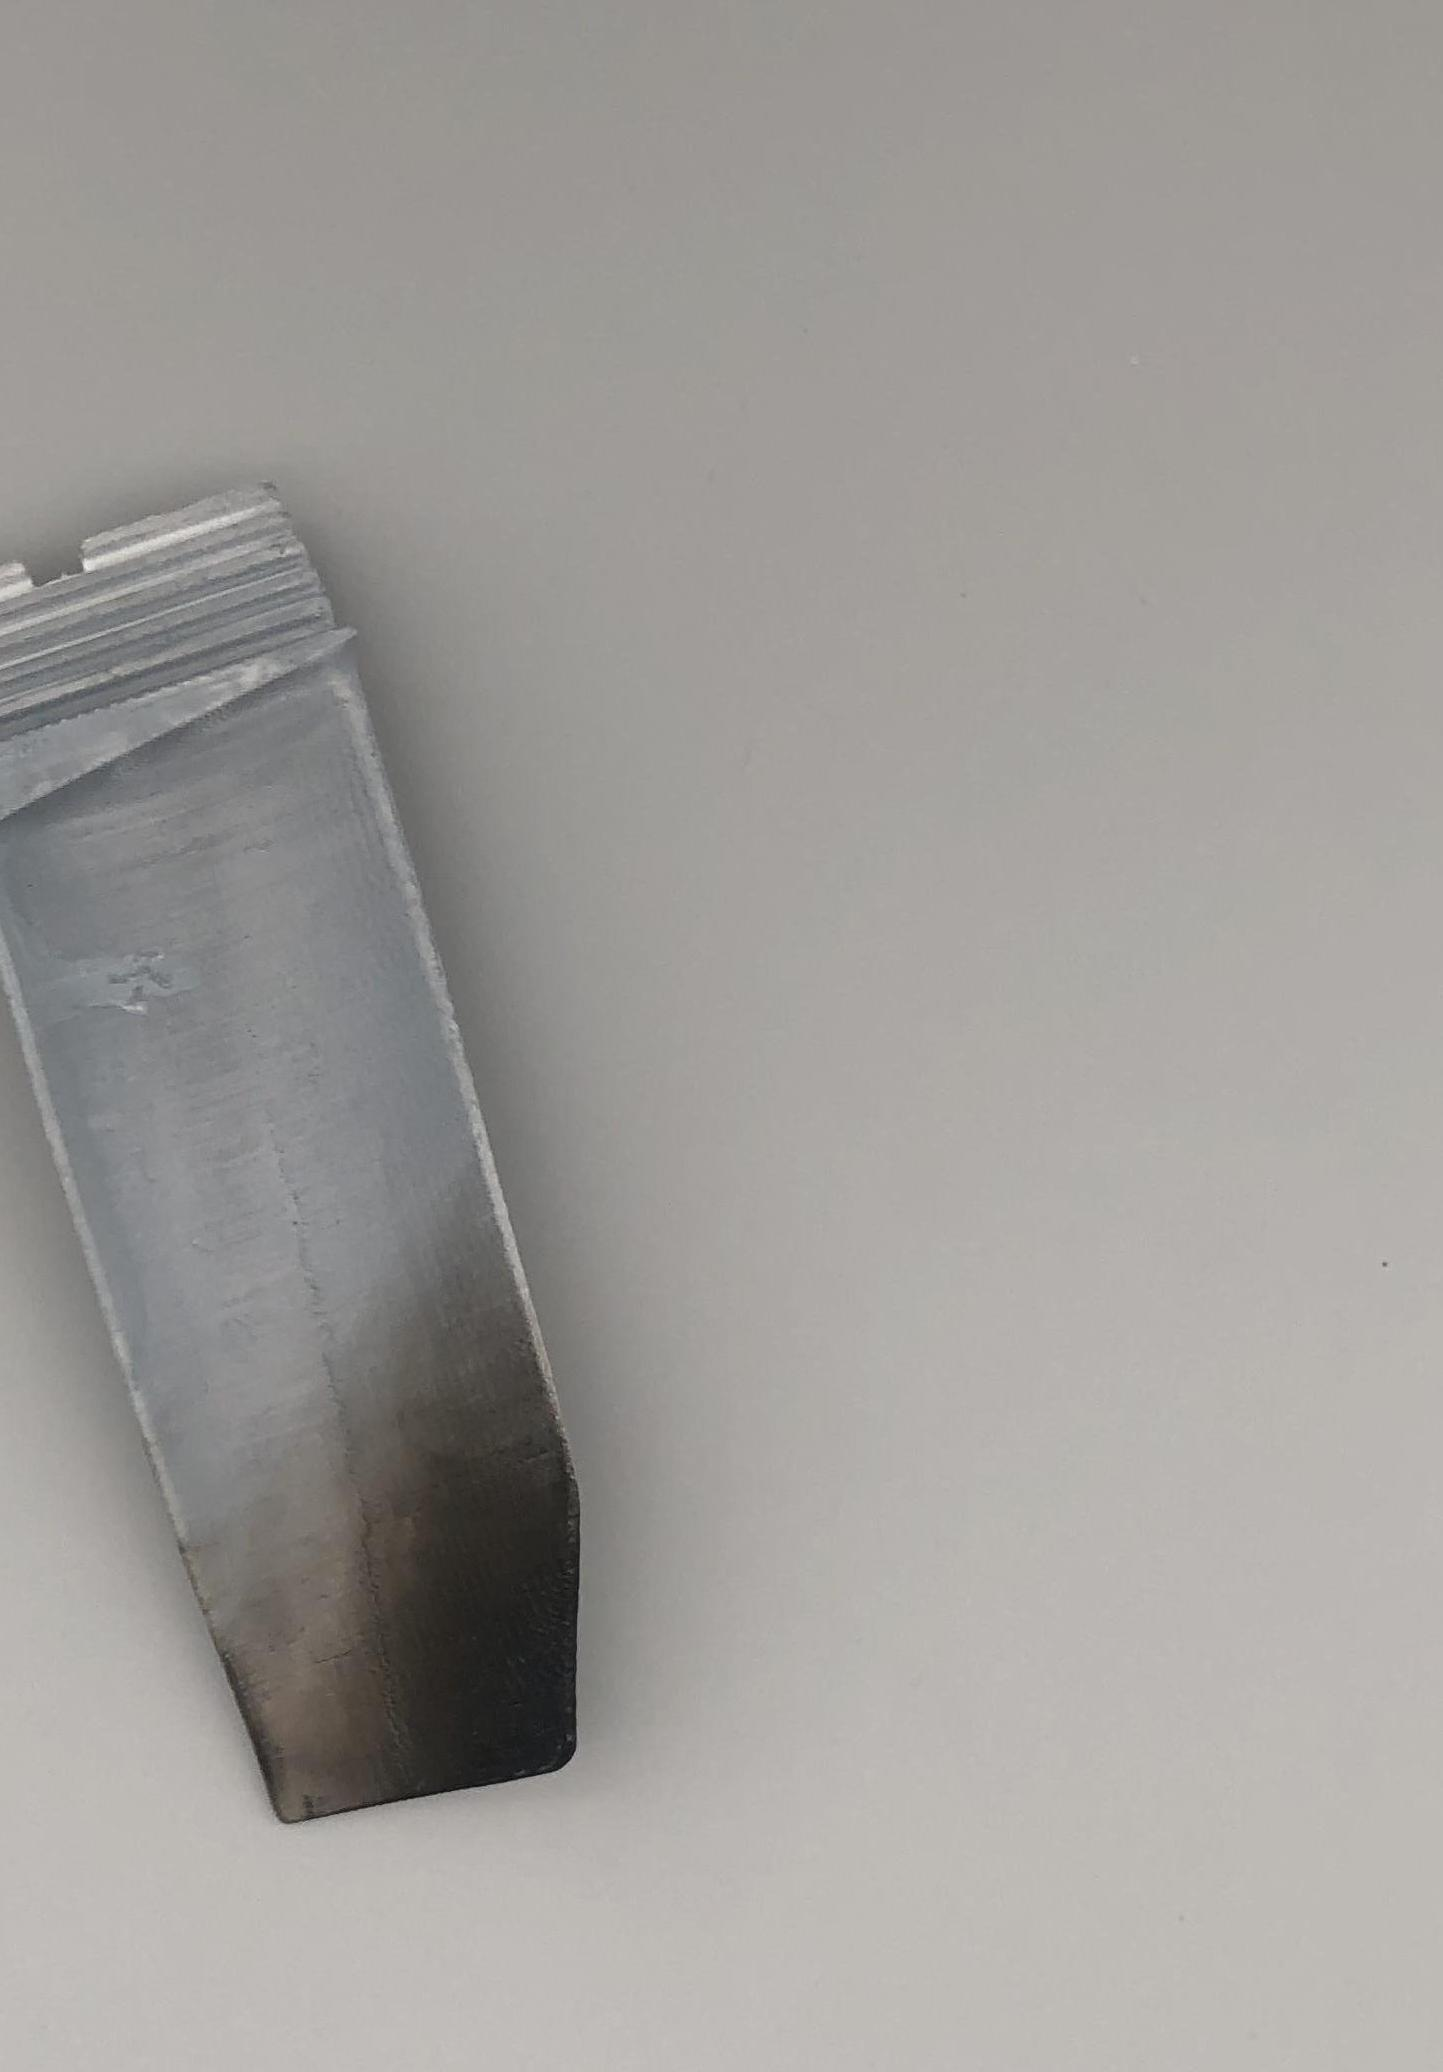ablation: (353, 1452, 580, 1752)
